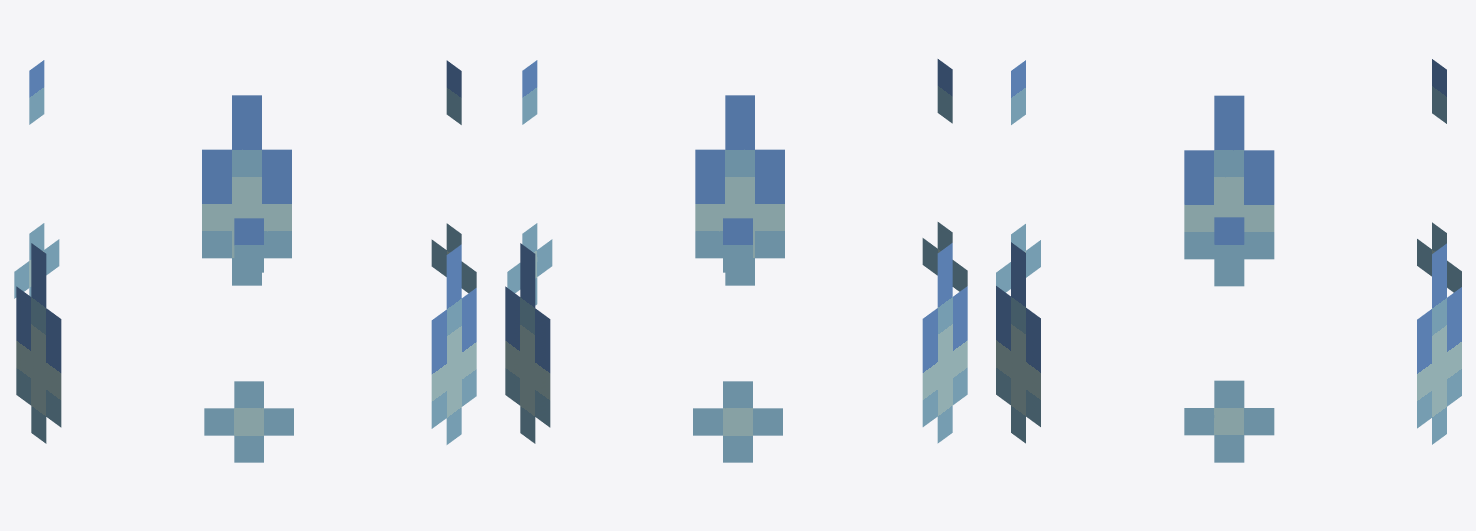
Rendered from sl_rgb_flame_halo.glb.
The picture shows the model from 3 angles, left to right: view 1: azimuth 30°, elevation 25°; view 2: azimuth 150°, elevation 25°; view 3: azimuth 270°, elevation 25°; orthographic projection.
Parts seen in each view (by area): view 1: bb_rgb_flame_halo; view 2: bb_rgb_flame_halo; view 3: bb_rgb_flame_halo.
Part boxes in pixels (left/top/right/bottom): bb_rgb_flame_halo: left=14, top=60, right=476, bottom=462; bb_rgb_flame_halo: left=505, top=59, right=967, bottom=462; bb_rgb_flame_halo: left=996, top=59, right=1461, bottom=462.
Bounding box in the file's own units: 1 × 0.6875 × 0.9688.
Materials: 1 (1 with a texture image).
